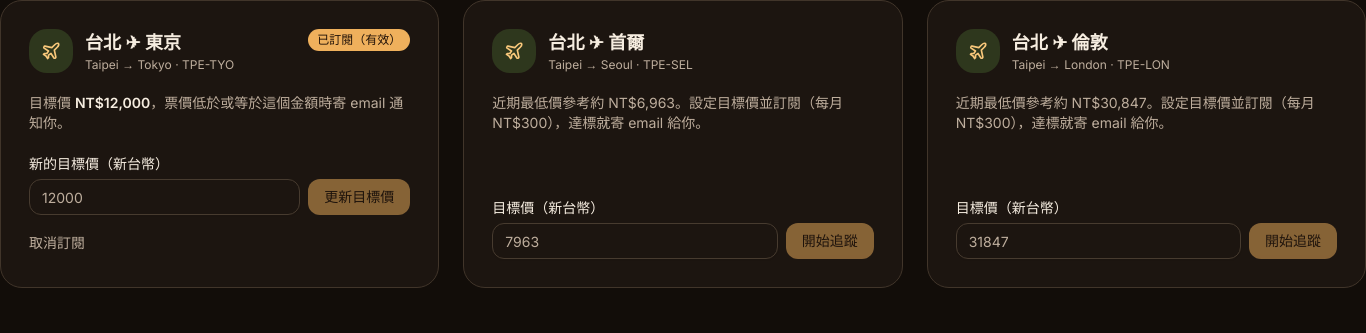
Test: PlanCards › updates an active subscriber's target in place (JSON, no checkout)
This screenshot has width=1366, height=333.
Type "9000" into the number field labelled "新的目標價（新台幣）" at [165, 197], box left=29, top=179, right=300, bottom=215
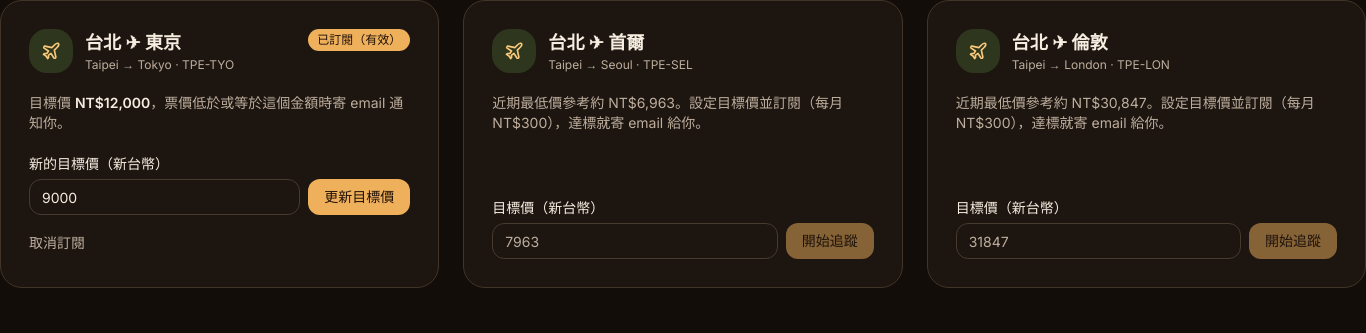
Click the button "更新目標價" at [359, 197], box left=308, top=179, right=410, bottom=215
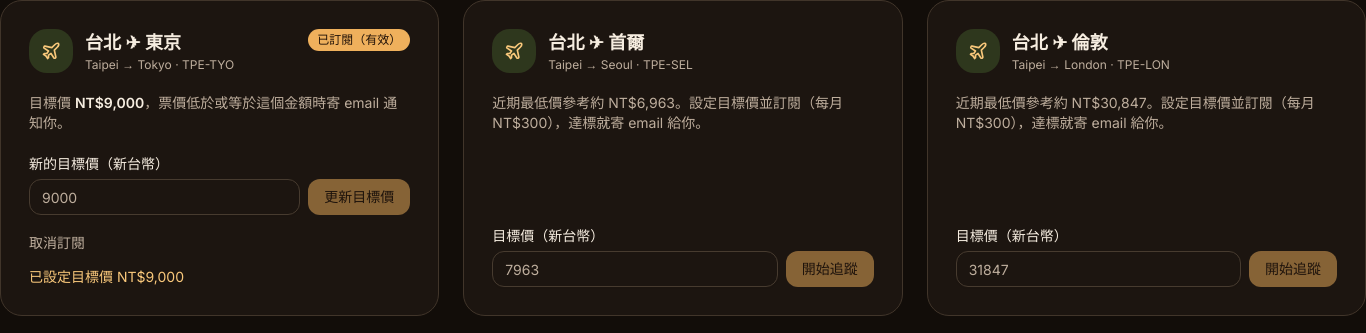
Expected: the text "已設定目標價 NT$9,000" is shown, left=29, top=268, right=184, bottom=285
